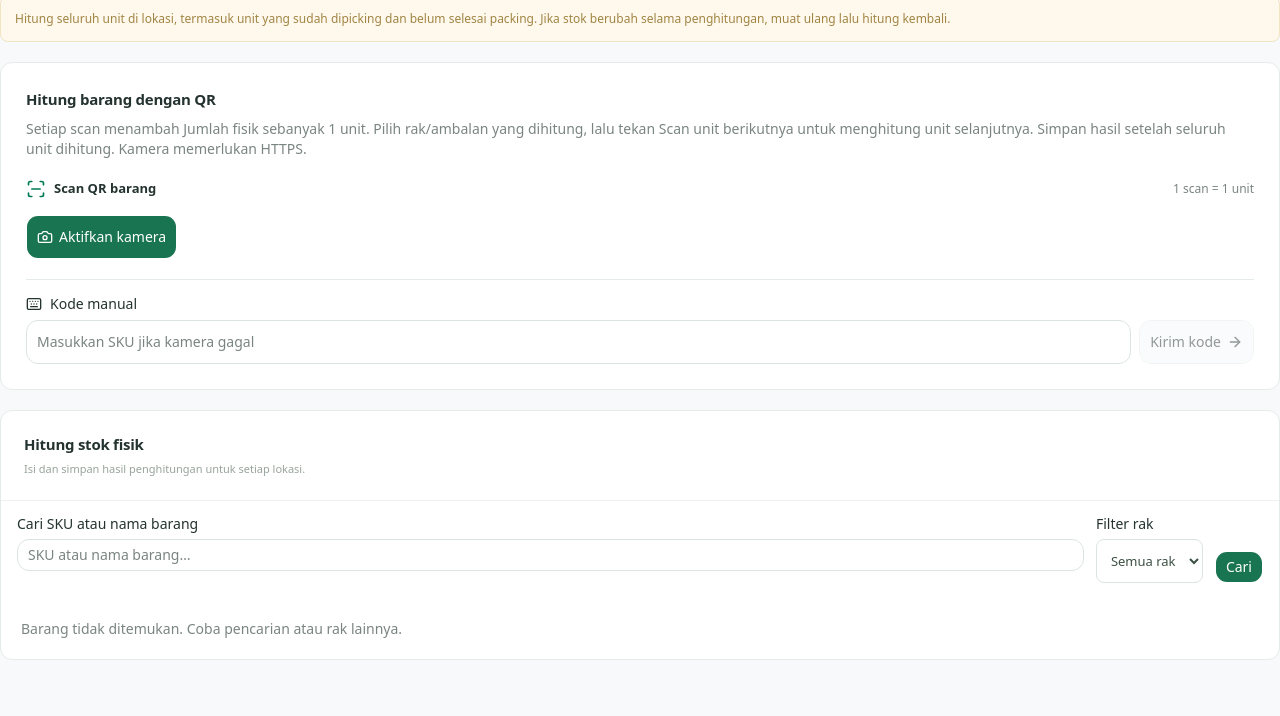
Scenario: a failed initial lookup can be retried and counted once
The width and height of the screenshot is (1280, 716).
Type "COUNT" into the field labelled "Kode manual". click: (579, 342)
box: [26,320,1131,364]
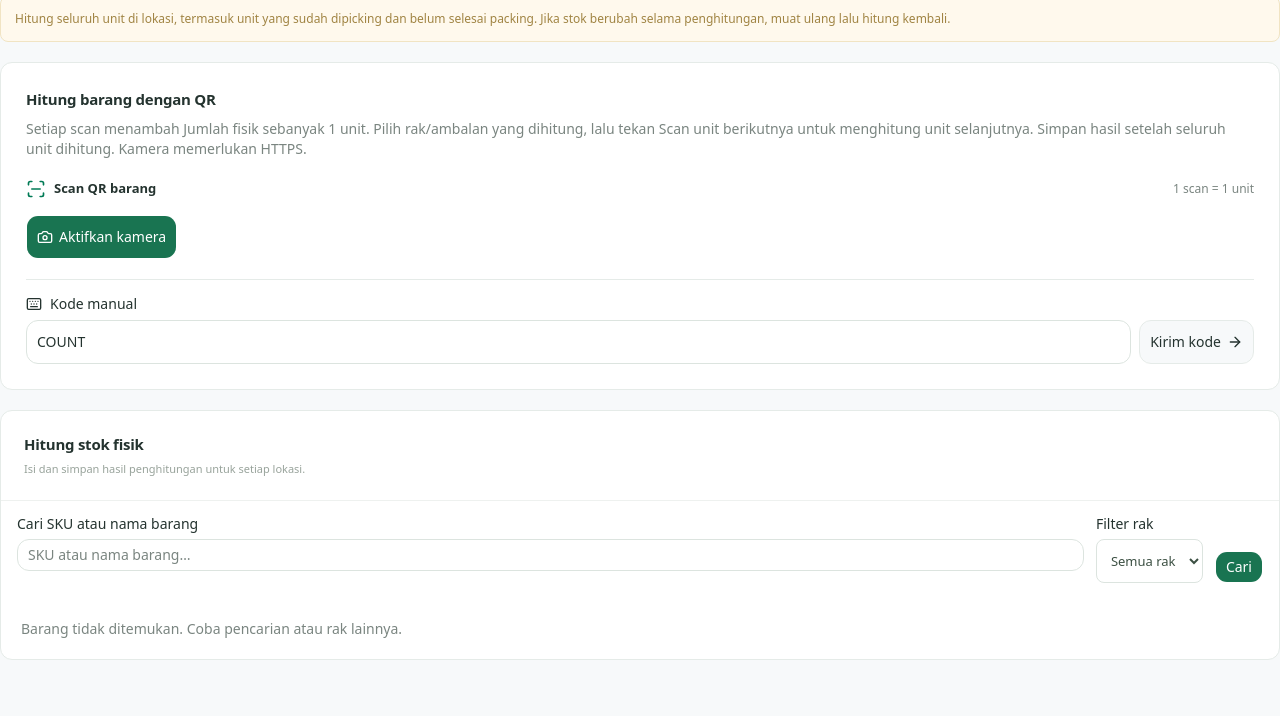
Click the button "Kirim kode". click: click(1197, 342)
box: [1139,320,1254,364]
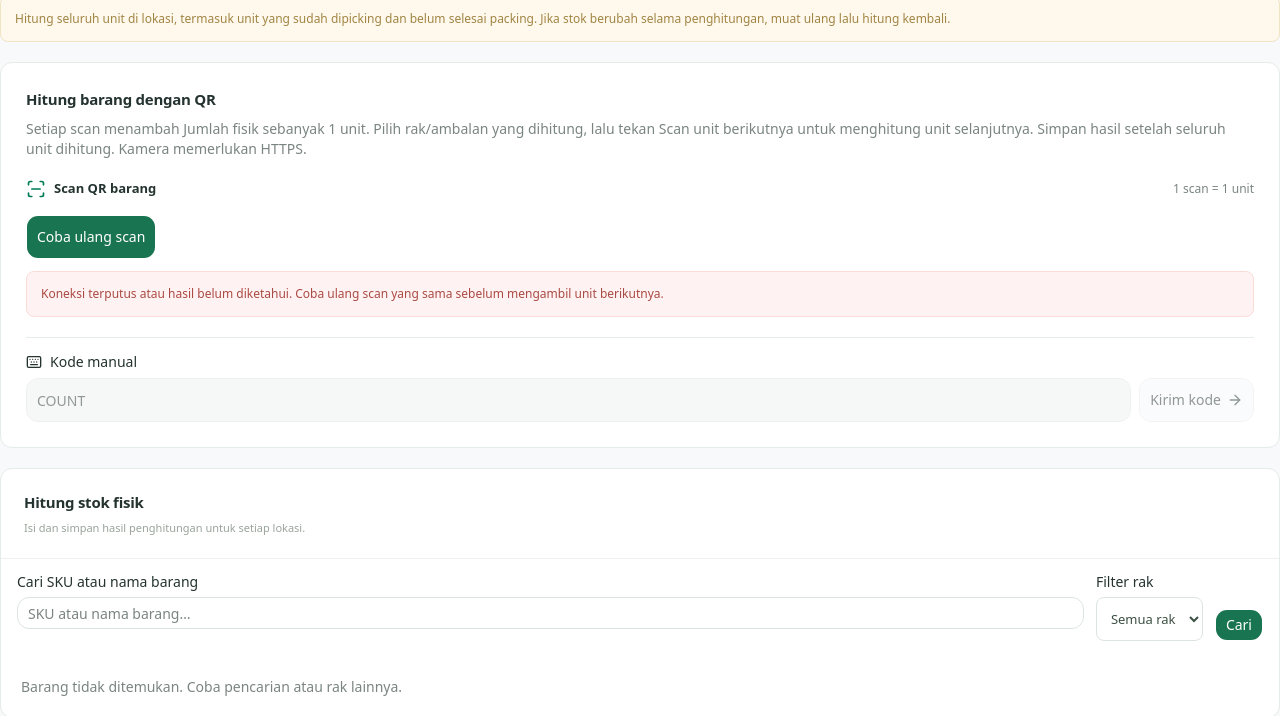
Click the button "Coba ulang scan". click: click(91, 237)
box: [26,215,156,259]
(page scrolled)
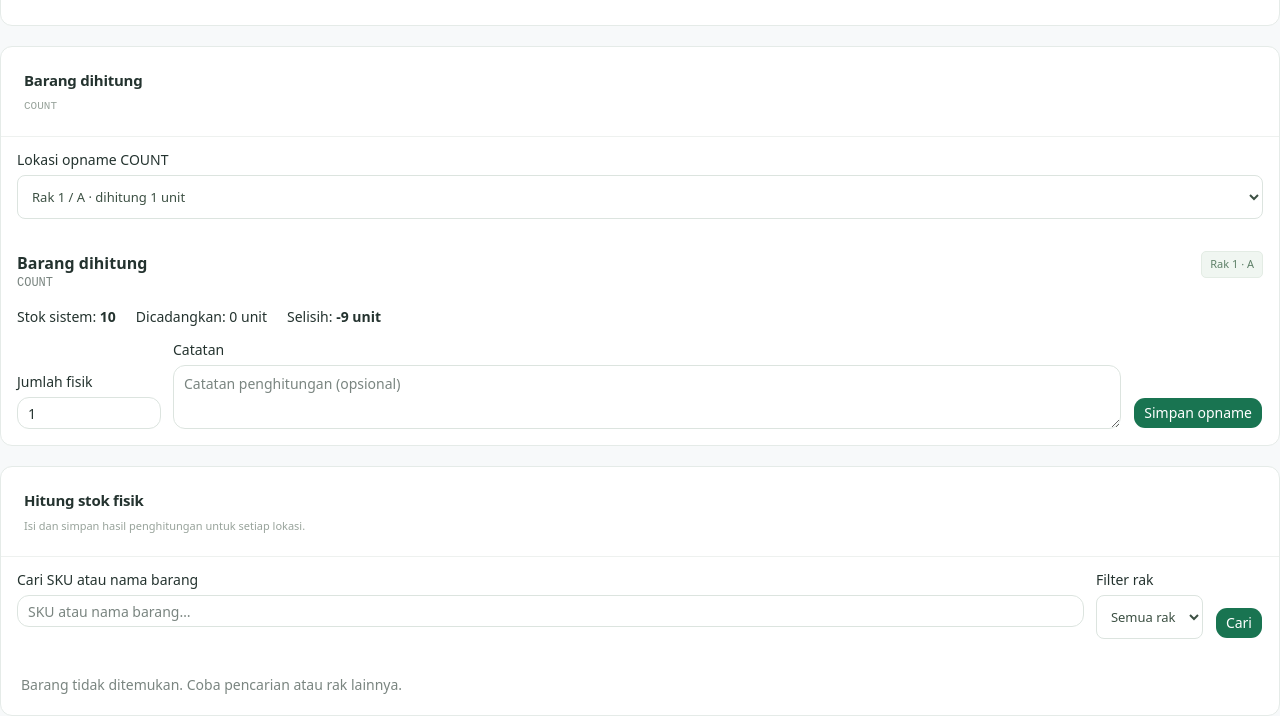
Expected: the number field labelled "Jumlah fisik" holds "1", [17,397,161,429]
